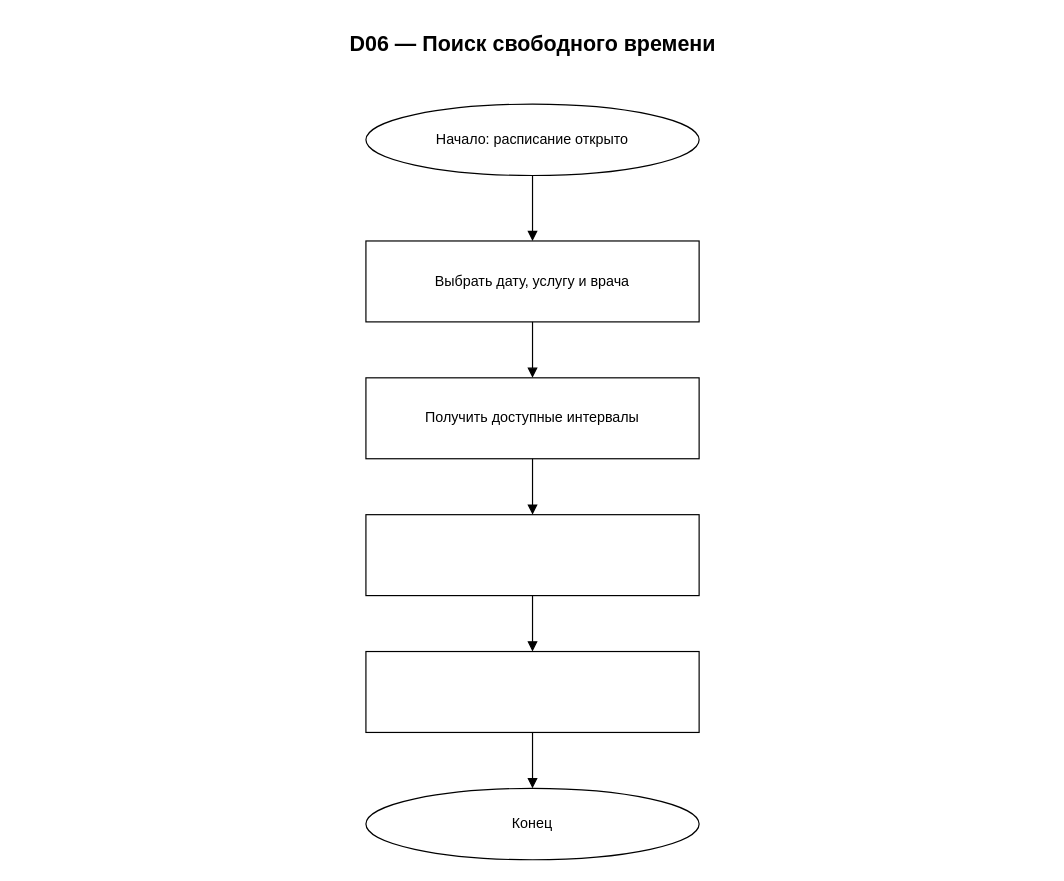
The diagram is 1064 pixels wide and 881 high, and some of its shapes have lost their labels. The box of each missing label's shape, as (x1, y1, x2, y2) in pixels:
Отсортировать интервалы по времени: (365, 513, 699, 596)
Показать свободные слоты или сообщение об отсутствии мест: (365, 650, 699, 732)
